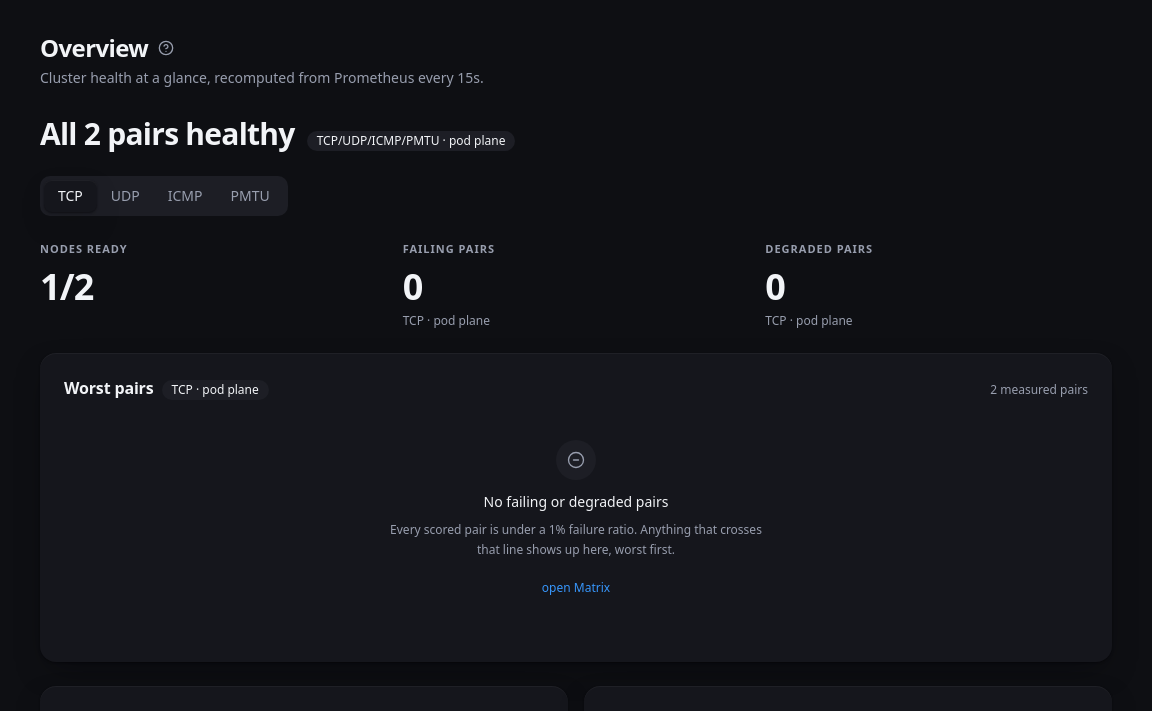
Test case: OverviewPage — the plane selector and the cross-plane header (P3) › sends 'open Matrix' to the protocol on show, and claims no failure ratio on PMTU
expect the text "All 2 pairs healthy" is shown: met, box [40, 116, 295, 152]
Click the radio button labelled "UDP" at (125, 196), box [97, 180, 154, 212]
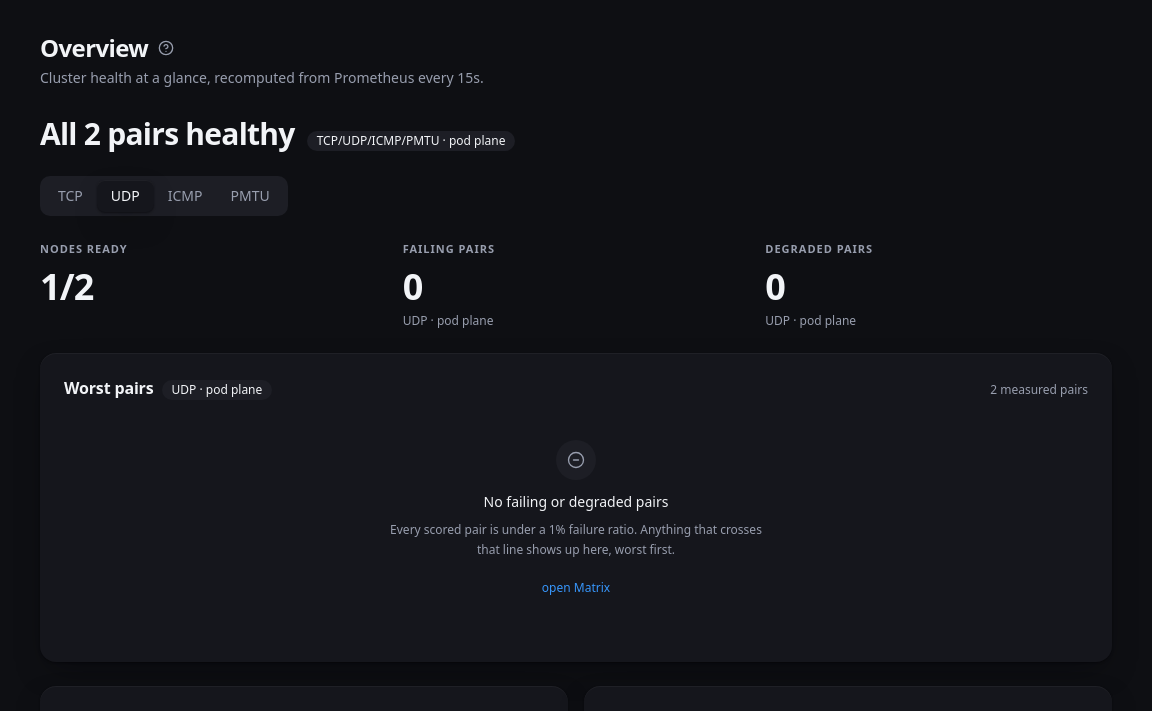
Click the radio button labelled "PMTU" at (250, 196), box [216, 180, 284, 212]
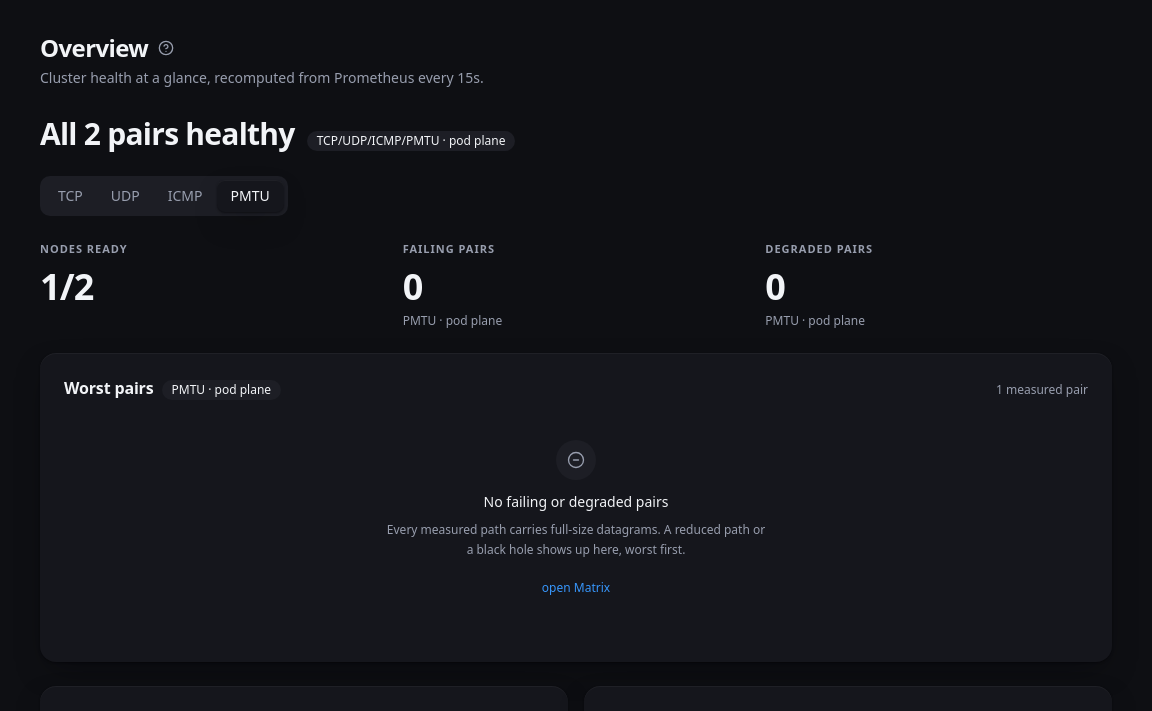
expect the text "No failing or degraded pairs" is shown: met, box [484, 492, 668, 512]
expect the text "1% failure ratio" is gone: met
expect the text "Every measured path carries full-size datagrams" is shown: met, box [387, 521, 765, 558]
Click the radio button labelled "TCP" at (70, 196), box [44, 180, 97, 212]
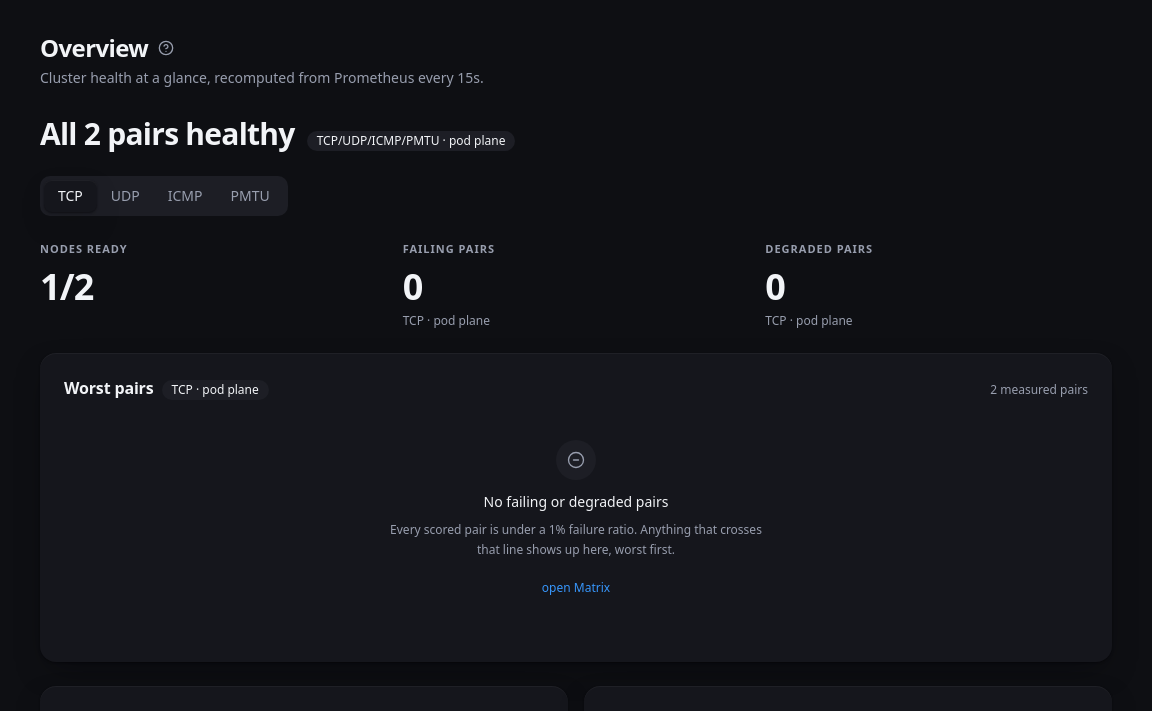
expect the text "1% failure ratio" is shown: met, box [390, 521, 762, 558]
expect the text "full-size datagrams" is gone: met
